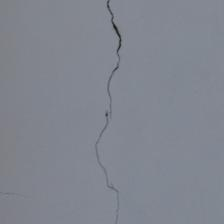Crack: (0, 0, 85, 77), (7, 34, 117, 92)
